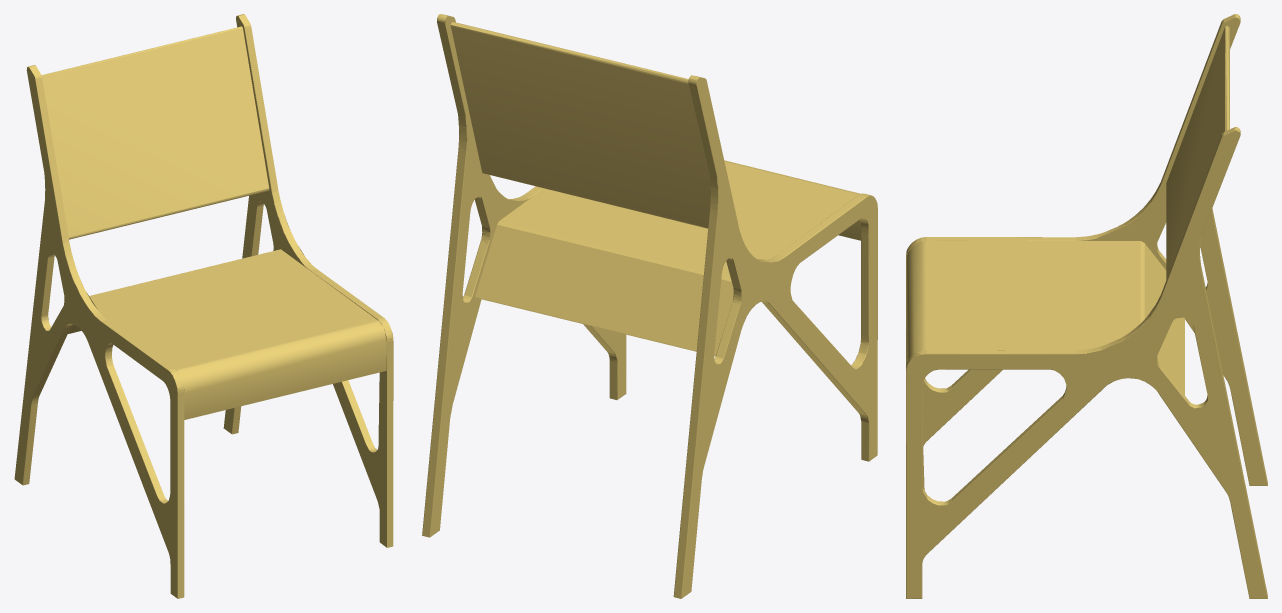
Rendered from dengzi.fbx.
3 renders of one model, left to right at view 1: azimuth 30°, elevation 25°; view 2: azimuth 150°, elevation 25°; view 3: azimuth 270°, elevation 25°, orthographic. The views are drawn at different scales.
Parts seen in each view (by area): view 1: polySurface4; view 2: polySurface4; view 3: polySurface4.
Part boxes in pixels (x1,y1,x2,y2): polySurface4: [14, 14, 393, 598]; polySurface4: [422, 14, 877, 598]; polySurface4: [906, 14, 1267, 598].
Bounding box in the file's own units: 13.73 × 25.71 × 17.98.
